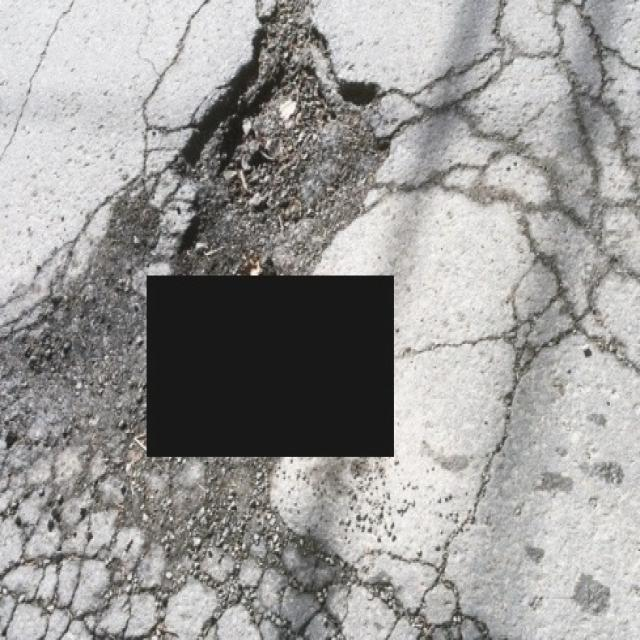road-pothole: (163, 0, 397, 274)
